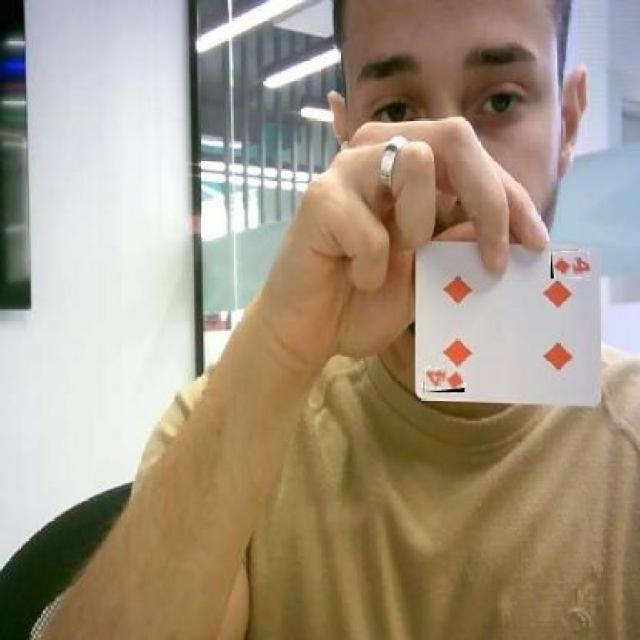4D: (551, 250, 589, 278), (423, 370, 465, 392)
